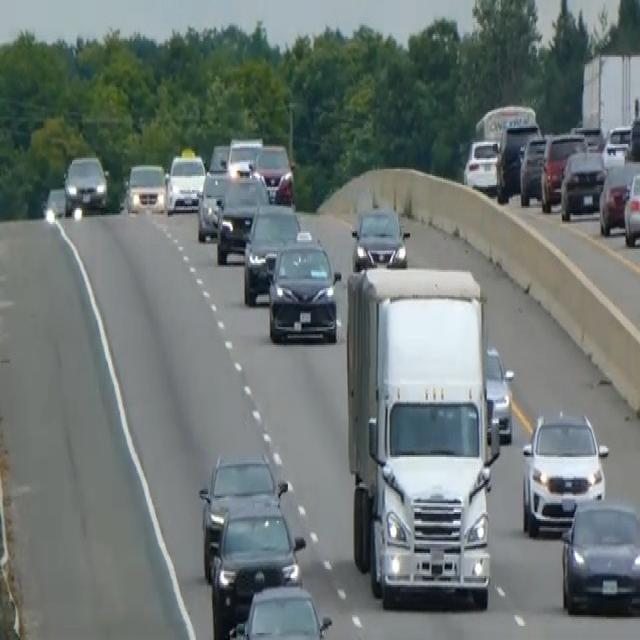car: (209, 498, 306, 638), (197, 450, 287, 580), (520, 407, 608, 537), (559, 496, 639, 615), (266, 231, 340, 345), (242, 199, 301, 306), (227, 582, 332, 638), (215, 165, 270, 263), (495, 117, 541, 203), (350, 203, 409, 270), (539, 130, 587, 212), (559, 146, 606, 220), (196, 142, 230, 240), (598, 158, 639, 235), (484, 343, 514, 443), (63, 153, 108, 217), (164, 151, 206, 213), (253, 140, 294, 202), (518, 133, 548, 204), (125, 160, 165, 213), (462, 135, 499, 192), (226, 135, 262, 176), (623, 167, 639, 247), (602, 123, 632, 165), (42, 185, 66, 222)
lorry: (343, 263, 500, 610)
